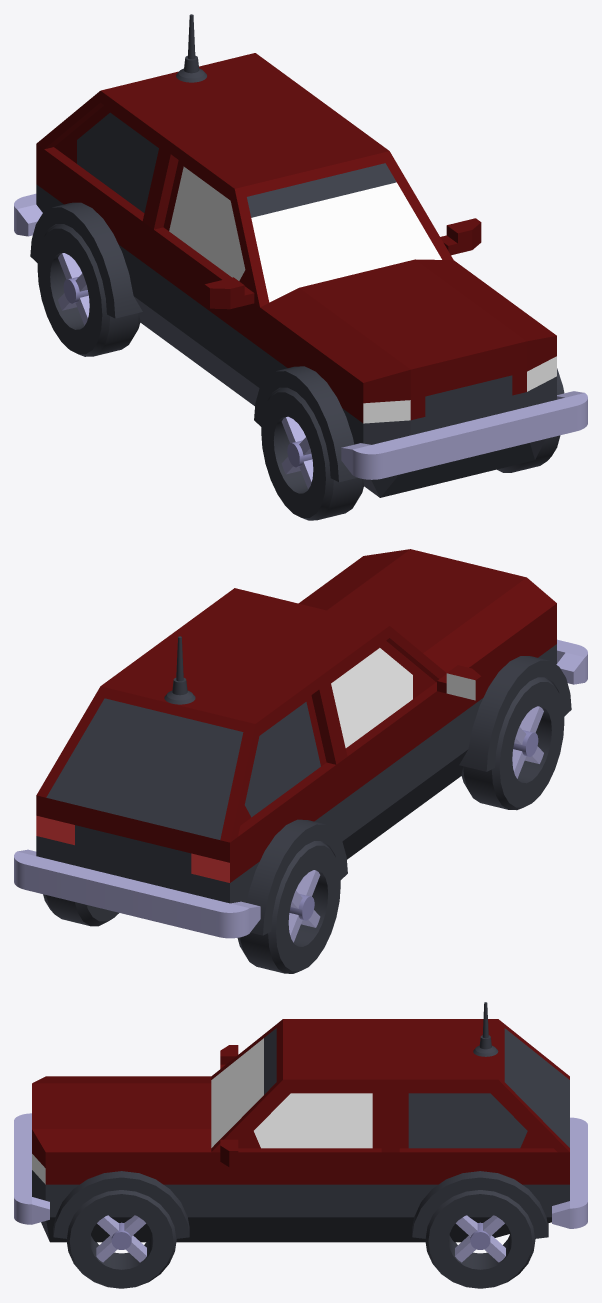
File: Red_Small_Car.fbx
3 views of the same model, one above another, from view 1: azimuth 30°, elevation 25°; view 2: azimuth 150°, elevation 25°; view 3: azimuth 270°, elevation 25° (orthographic). The views are drawn at different scales.
Visible parts, largest first — view 1: body_topStandard (×2), body_frontSUV, wheel_spokes (×3), body_standard, bumper (×2), wheel_coverStandard (×2), body_backSolid, detail_mirror (×2), detail_antenna; view 2: body_topStandard (×2), body_frontSUV, body_backSolid, wheel_spokes (×3), body_standard, bumper (×2), wheel_coverStandard (×2), detail_mirror, detail_antenna; view 3: body_topStandard (×2), body_frontSUV, body_standard, wheel_spokes (×2), body_backSolid, wheel_coverStandard (×2), bumper (×2), detail_antenna, detail_mirror.
Boxes of the visible parts, box(x1,y1,x2,y2) form: body_topStandard (×2): box(36, 53, 453, 307); body_frontSUV: box(260, 259, 556, 497); wheel_spokes (×3): box(37, 224, 560, 520); body_standard: box(148, 226, 259, 405); bumper (×2): box(14, 193, 587, 479); wheel_coverStandard (×2): box(30, 202, 357, 482); body_backSolid: box(36, 144, 166, 341); detail_mirror (×2): box(204, 218, 481, 309); detail_antenna: box(176, 14, 206, 82); body_topStandard (×2): box(36, 588, 446, 842); body_frontSUV: box(298, 549, 556, 795); body_backSolid: box(36, 761, 341, 903); wheel_spokes (×3): box(43, 677, 564, 973); body_standard: box(342, 682, 453, 859); bumper (×2): box(14, 639, 587, 938); wheel_coverStandard (×2): box(246, 656, 571, 935); detail_mirror: box(437, 665, 481, 700); detail_antenna: box(164, 636, 195, 704); body_topStandard (×2): box(211, 1019, 569, 1152); body_frontSUV: box(32, 1076, 211, 1242); body_standard: box(211, 1148, 390, 1242); wheel_spokes (×2): box(66, 1190, 535, 1288); body_backSolid: box(390, 1148, 569, 1242); wheel_coverStandard (×2): box(53, 1171, 548, 1238); bumper (×2): box(14, 1113, 587, 1228); detail_antenna: box(473, 1002, 498, 1056); detail_mirror: box(220, 1139, 238, 1167).
Size of the model in its own units: 14 by 15.08 by 32.
